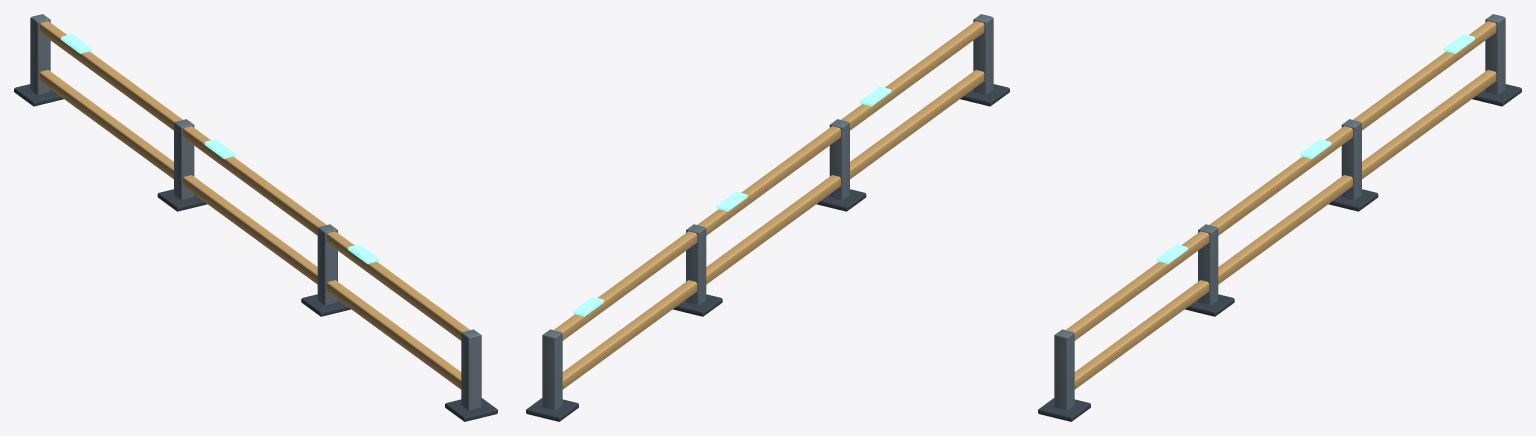
File: nyanisyarud-camera-road-rail.glb
3 renders of one model, left to right at view 1: azimuth 30°, elevation 25°; view 2: azimuth 150°, elevation 25°; view 3: azimuth 330°, elevation 25°, orthographic.
Parts seen in each view (by area): view 1: road-rail_brass, road-rail_edge, road-rail_case, road-rail_cyan; view 2: road-rail_brass, road-rail_edge, road-rail_case, road-rail_cyan; view 3: road-rail_brass, road-rail_edge, road-rail_case, road-rail_cyan.
Part boxes in pixels (<box>): road-rail_brass: <box>39,21,470,389</box>; road-rail_edge: <box>30,14,481,410</box>; road-rail_case: <box>14,84,497,421</box>; road-rail_cyan: <box>61,34,379,264</box>; road-rail_brass: <box>553,21,984,389</box>; road-rail_edge: <box>542,14,993,410</box>; road-rail_case: <box>526,84,1009,421</box>; road-rail_cyan: <box>573,86,891,316</box>; road-rail_brass: <box>1065,21,1496,389</box>; road-rail_edge: <box>1054,14,1505,410</box>; road-rail_case: <box>1038,84,1521,421</box>; road-rail_cyan: <box>1156,34,1474,264</box>.
Size of the model in its own units: 0.55 by 1.23 by 12.55.
